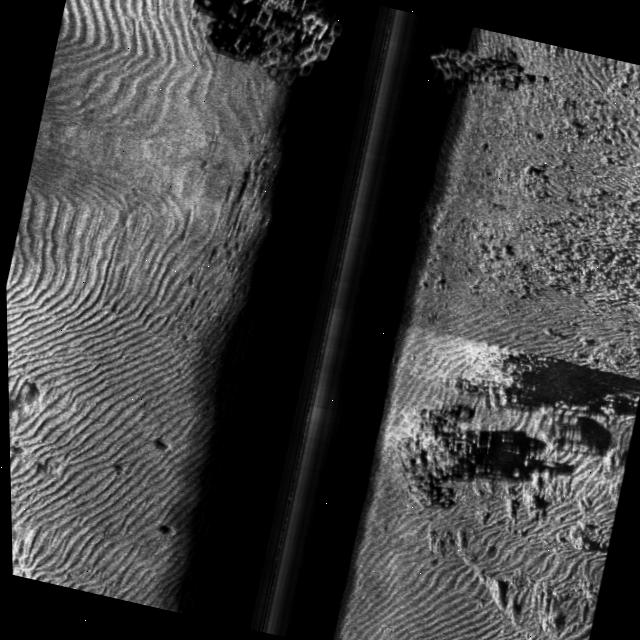artificial reef: (206, 0, 358, 96), (414, 30, 531, 116)
